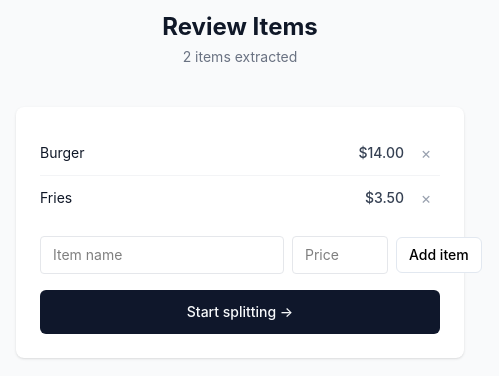
Test: ReviewScreen › Test 2: clicking remove button removes the item from the list
# The first remove button corresponds to Burger
Click the button "×" next to "14.00".
click(426, 153)  # box [412,139,440,167]
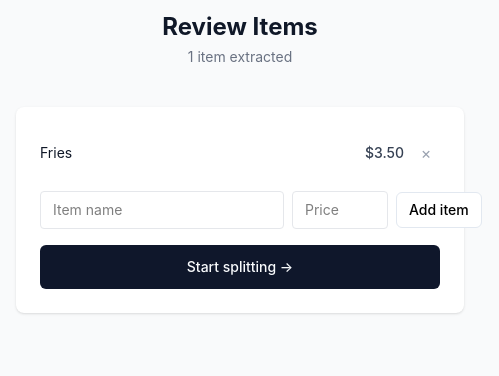
Expected: the text "Burger" is gone
Expected: the text "Fries" is shown, [40,144,72,161]
